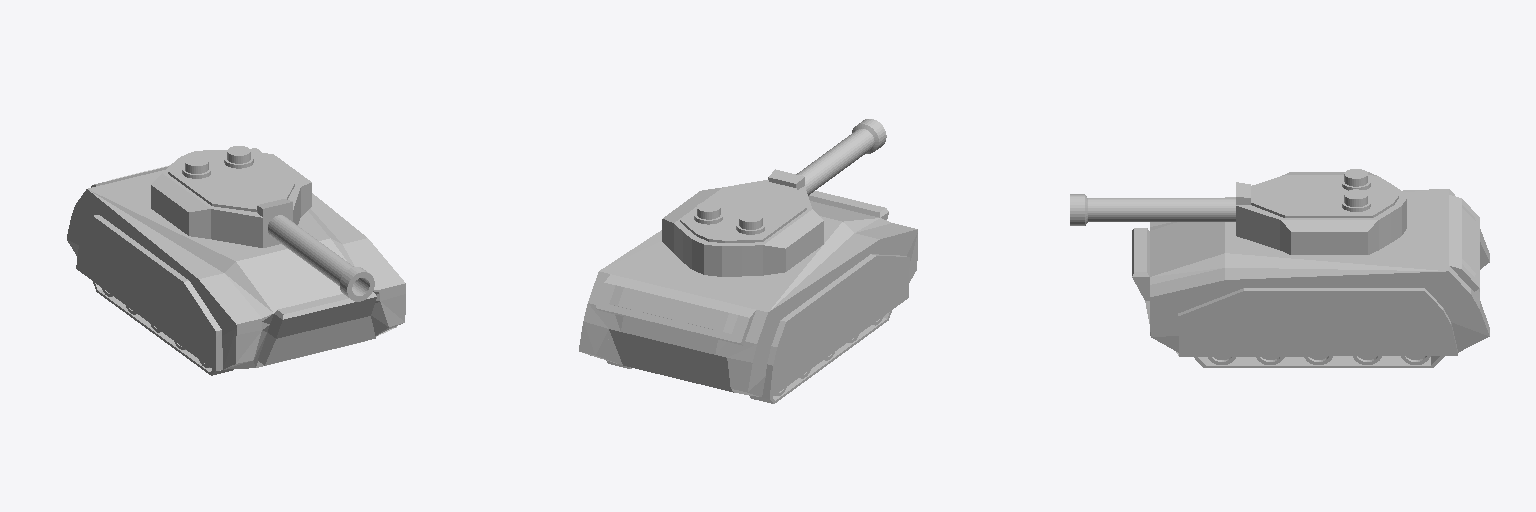
File: tier2.obj
The picture shows the model from 3 angles: view 1: azimuth 30°, elevation 25°; view 2: azimuth 150°, elevation 25°; view 3: azimuth 270°, elevation 25°; orthographic projection.
Visible parts, largest first — view 1: Body2_Cube.082, Turret2_Cylinder.005, Main_Gun2_Cylinder.006, Tracks2_Cube.081; view 2: Body2_Cube.082, Turret2_Cylinder.005, Main_Gun2_Cylinder.006, Tracks2_Cube.081; view 3: Body2_Cube.082, Turret2_Cylinder.005, Main_Gun2_Cylinder.006, Tracks2_Cube.081, Road_Wheels2_Cube.083.
Part boxes in pixels (x1,y1,x2,y2): Body2_Cube.082: (67,148,405,370); Turret2_Cylinder.005: (151,146,311,247); Main_Gun2_Cylinder.006: (257,199,374,301); Tracks2_Cube.081: (93,282,233,375); Body2_Cube.082: (579,191,917,398); Turret2_Cylinder.005: (662,180,823,276); Main_Gun2_Cylinder.006: (768,119,886,195); Tracks2_Cube.081: (606,311,891,403); Body2_Cube.082: (1132,189,1489,356); Turret2_Cylinder.005: (1236,169,1406,254); Main_Gun2_Cylinder.006: (1070,182,1250,225); Tracks2_Cube.081: (1194,356,1444,367); Road_Wheels2_Cube.083: (1208,356,1430,364).
Size of the model in its own units: 3.86 by 2.92 by 7.72.